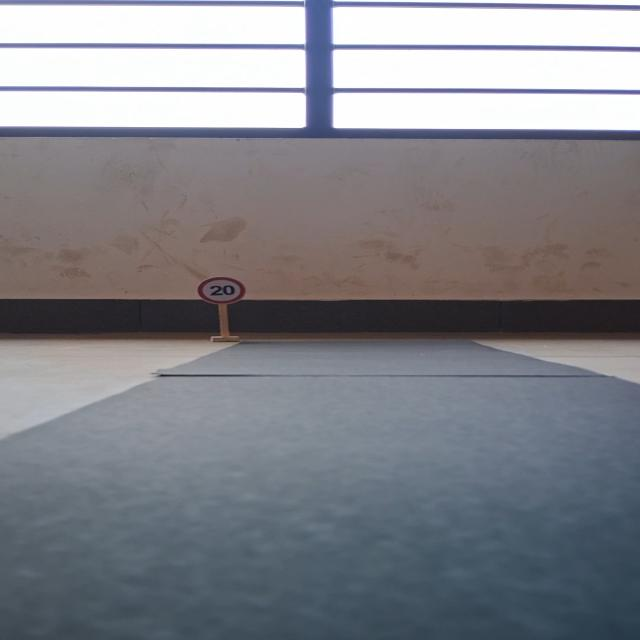Speed20: (189, 275, 250, 307)
